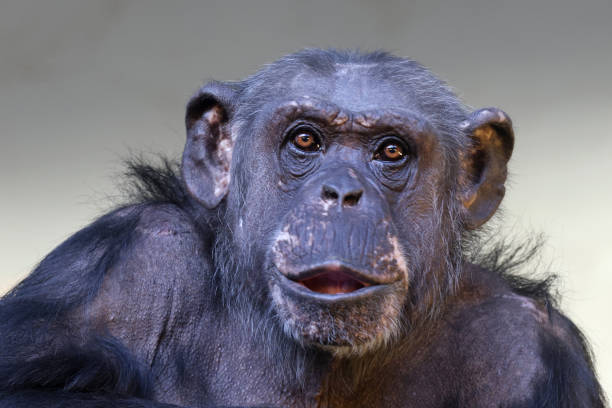chimpanzee: (160, 31, 539, 391)
